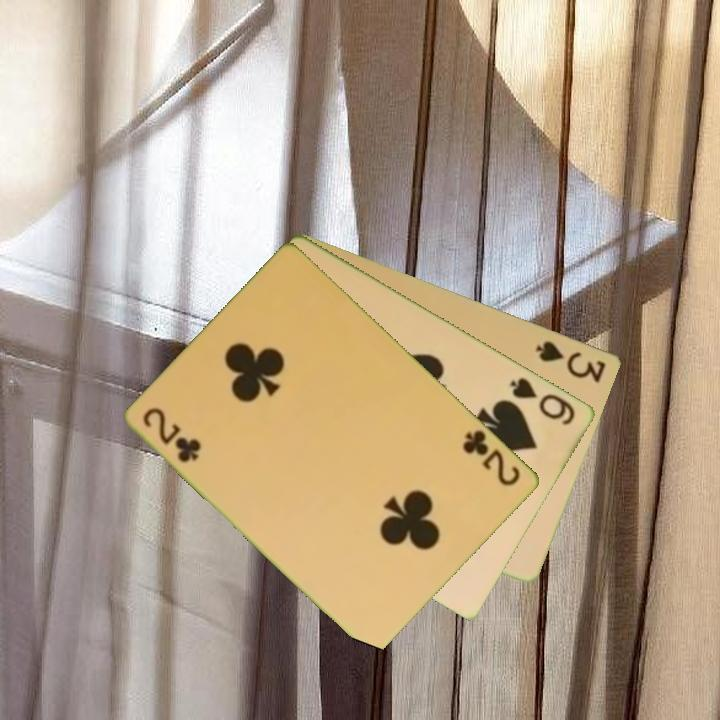2c: (459, 426, 524, 489), (140, 404, 204, 466)
3s: (533, 336, 609, 386)
6s: (507, 373, 579, 428)
